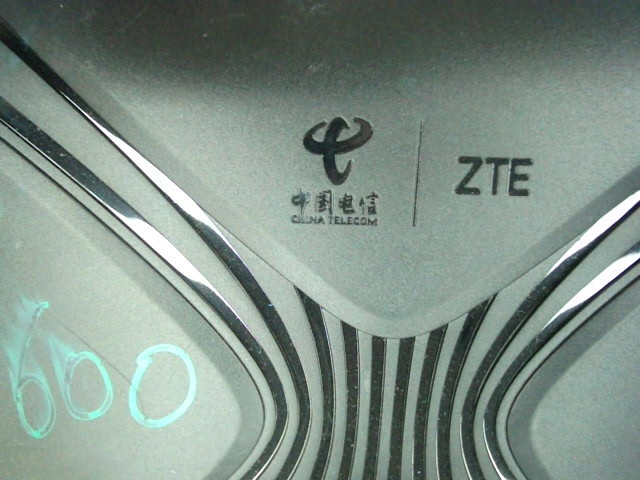AX_ZTEChinaTelecom: (276, 111, 537, 230)
